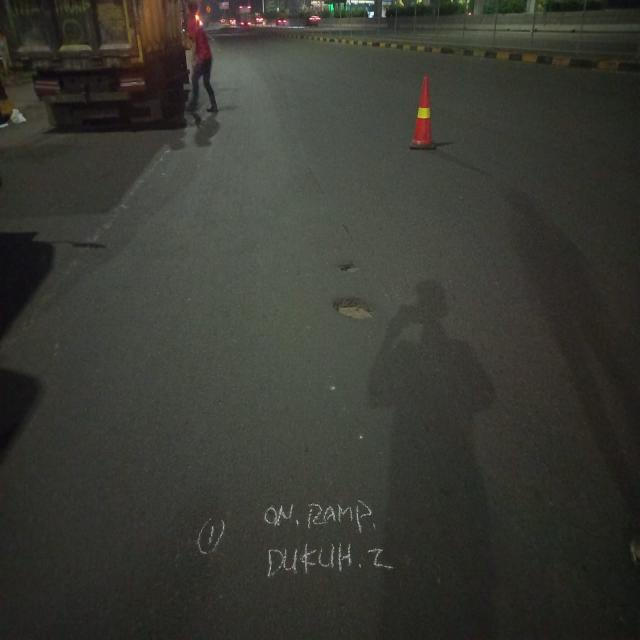Buraco: (328, 295, 379, 323), (332, 258, 363, 276)
